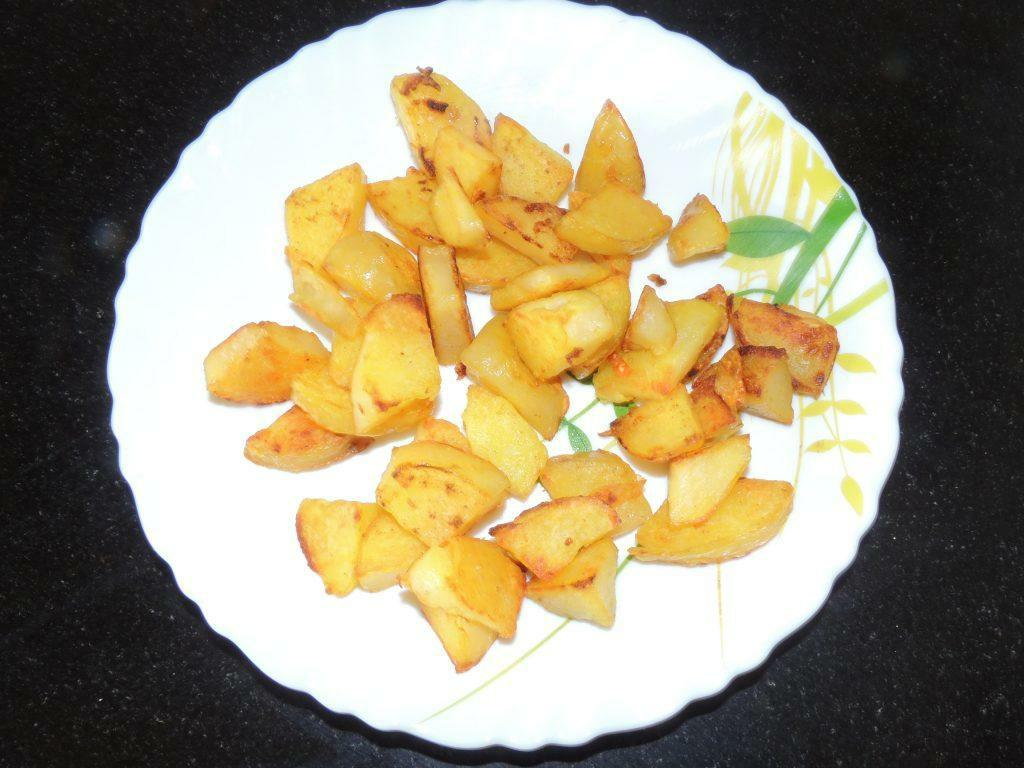AlooMasala: (206, 69, 840, 673)
